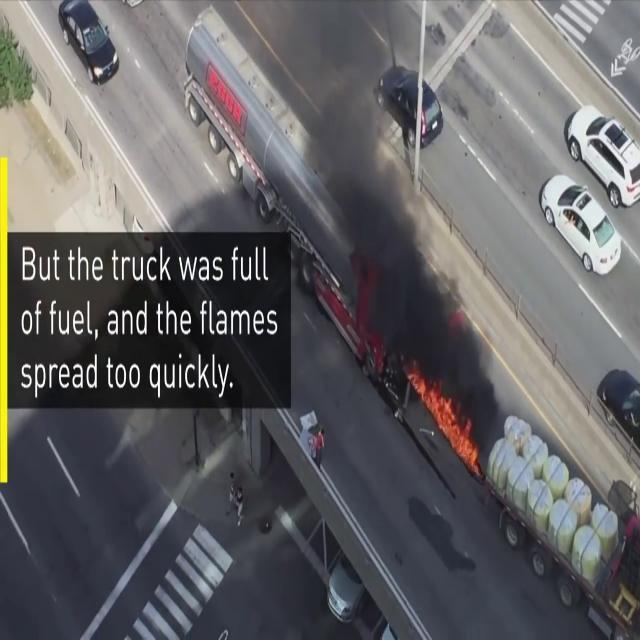Fire: (410, 364, 478, 464)
Smoke: (284, 0, 466, 354)
